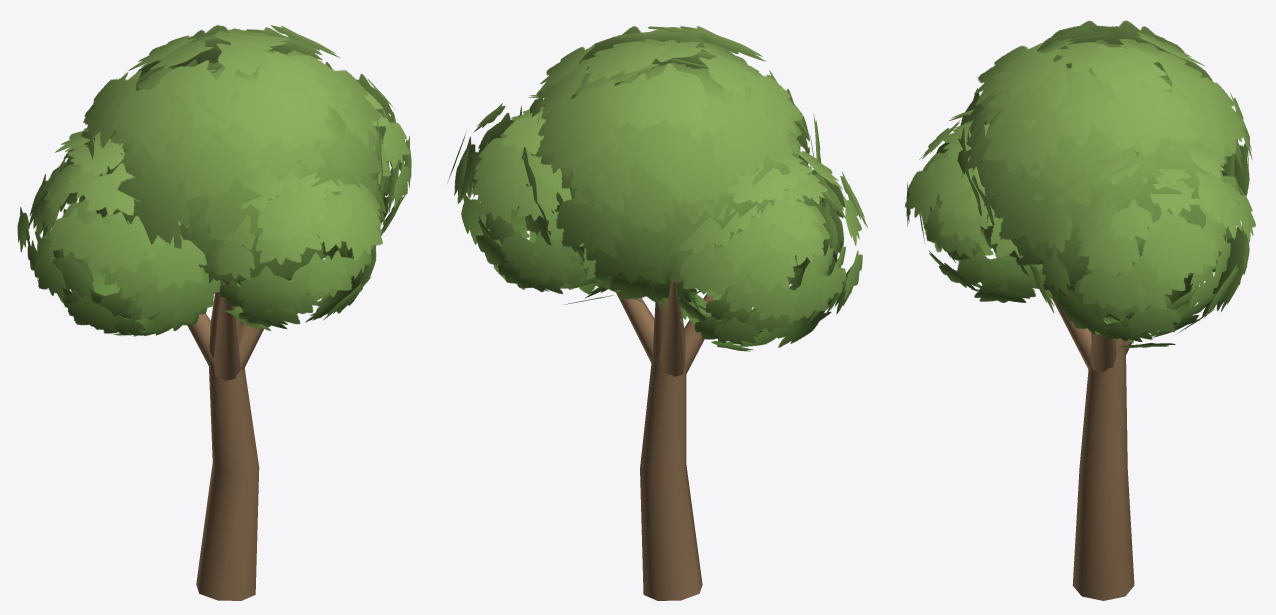
File: tree-17.glb
3 renders of one model, left to right at view 1: azimuth 30°, elevation 25°; view 2: azimuth 150°, elevation 25°; view 3: azimuth 270°, elevation 25°, orthographic.
Parts seen in each view (by area): view 1: round leafy tree; view 2: round leafy tree; view 3: round leafy tree.
Boxes of the visible parts, x1,y1,x2,y2 form: round leafy tree: (17,25,411,600); round leafy tree: (447,26,867,600); round leafy tree: (905,20,1255,600).
Size of the model in its own units: 4.6 by 6.29 by 3.75.
1 material, 1 textured.
